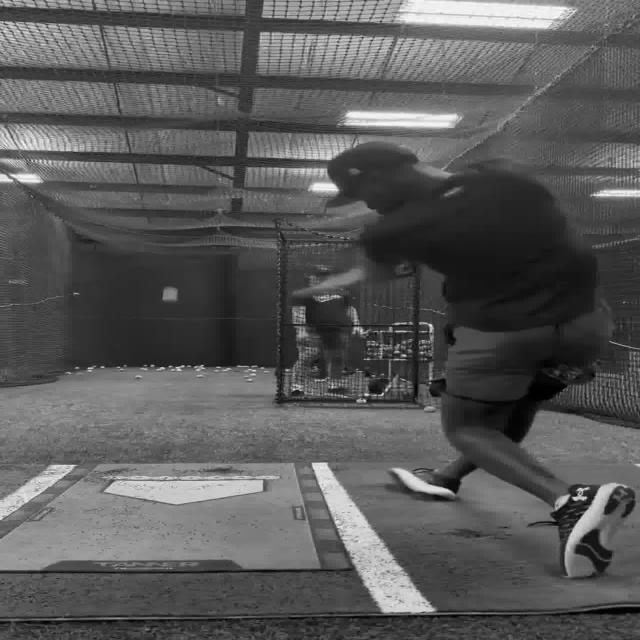baseball: (163, 288, 182, 298), (422, 405, 436, 413), (356, 398, 366, 403), (244, 378, 253, 382), (134, 375, 142, 379), (196, 374, 203, 378)
shoe: (550, 482, 635, 578), (388, 466, 460, 501), (326, 380, 347, 394), (288, 384, 304, 398)
